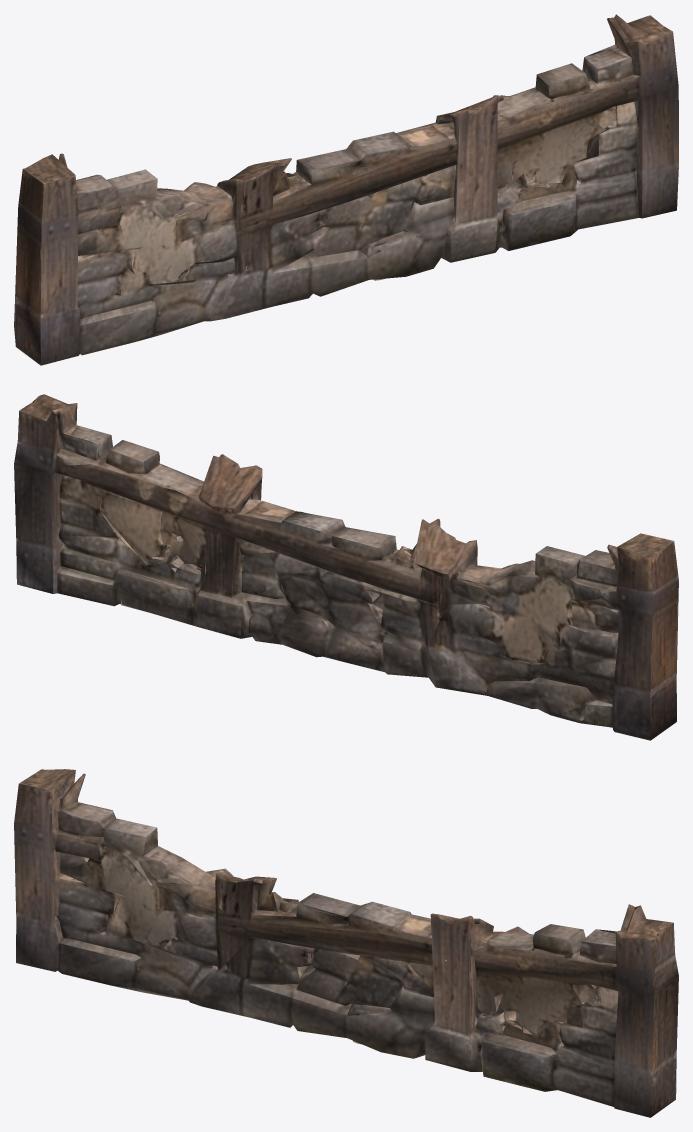
3 views of the same model, one above another, from view 1: azimuth 30°, elevation 25°; view 2: azimuth 150°, elevation 25°; view 3: azimuth 330°, elevation 25° (orthographic).
Visible parts, largest first — view 1: geometry_0; view 2: geometry_0; view 3: geometry_0.
Boxes of the visible parts, bbox=[...] form: geometry_0: bbox=[14, 14, 678, 365]; geometry_0: bbox=[14, 394, 678, 740]; geometry_0: bbox=[14, 769, 678, 1117].
Size of the model in its own units: 2.99 by 0.841 by 0.246.
Materials: 1 (1 with a texture image).
